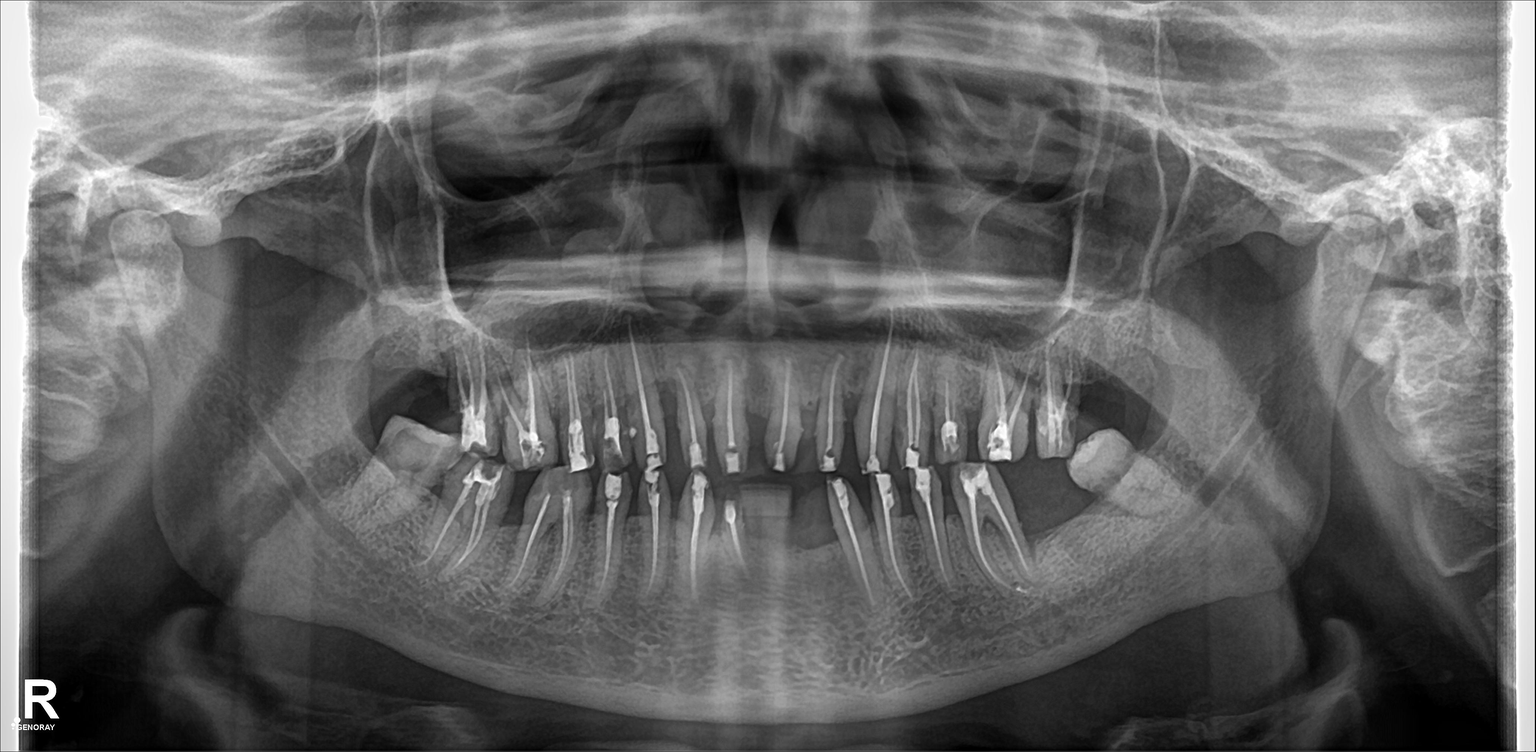Endodontically Treated Tooth: (495, 342, 550, 471), (829, 490, 879, 609), (873, 477, 913, 617), (968, 478, 1015, 597), (527, 486, 577, 594), (626, 344, 669, 469), (983, 341, 1024, 466), (454, 346, 496, 466), (708, 499, 752, 606), (916, 473, 952, 600), (676, 465, 706, 614), (1037, 346, 1079, 451), (557, 344, 590, 477), (812, 352, 848, 465), (894, 344, 928, 462), (711, 361, 746, 475), (767, 354, 796, 481), (594, 477, 623, 602), (454, 469, 487, 576), (935, 361, 967, 465), (596, 344, 623, 462), (678, 367, 706, 475), (641, 478, 664, 602), (864, 342, 883, 460)
Missing Tooth: (790, 486, 839, 609), (1030, 477, 1089, 572), (1073, 346, 1143, 426), (410, 329, 451, 429), (369, 322, 405, 414)
